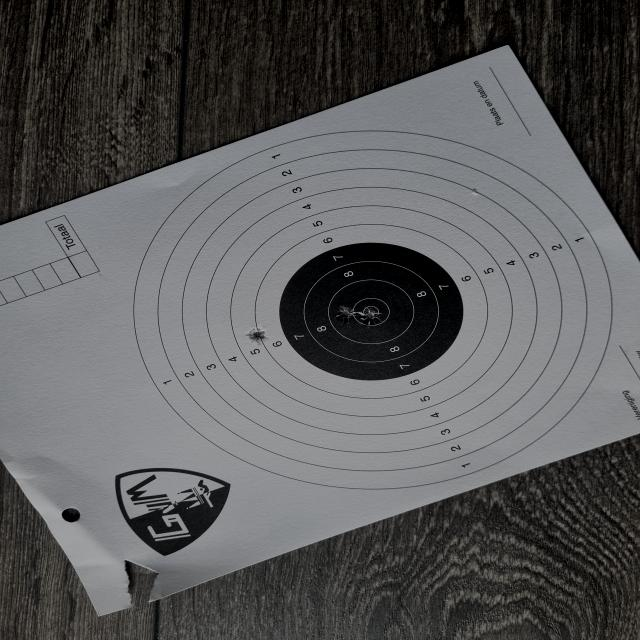10: (333, 304, 359, 324), (359, 307, 382, 325)
6: (246, 324, 270, 345)
Target: (130, 130, 612, 492)
black_contour: (278, 242, 465, 382)
